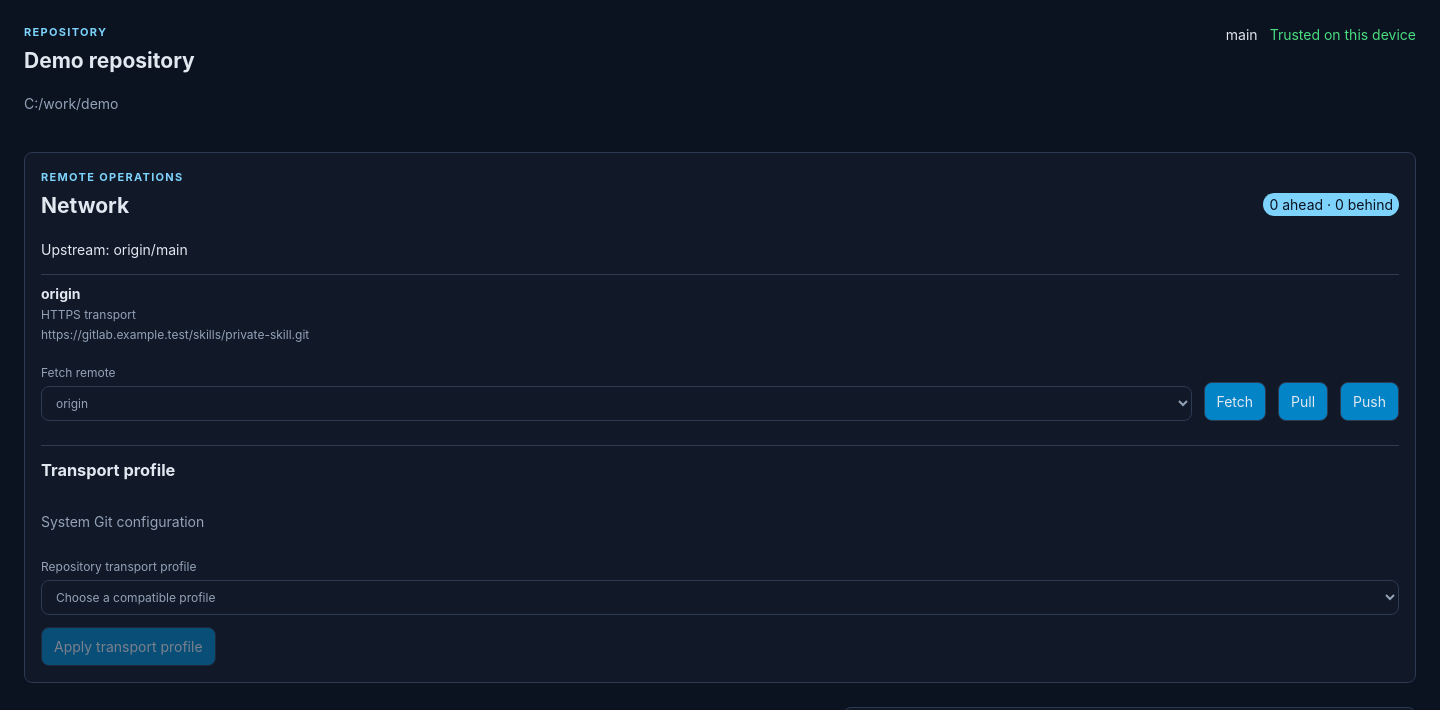
Test: RepositoryView › composes Network operations and refreshes repository status after terminal work
The image size is (1440, 710).
Click the button "Fetch": [1235, 401] box [1204,382,1266,421]
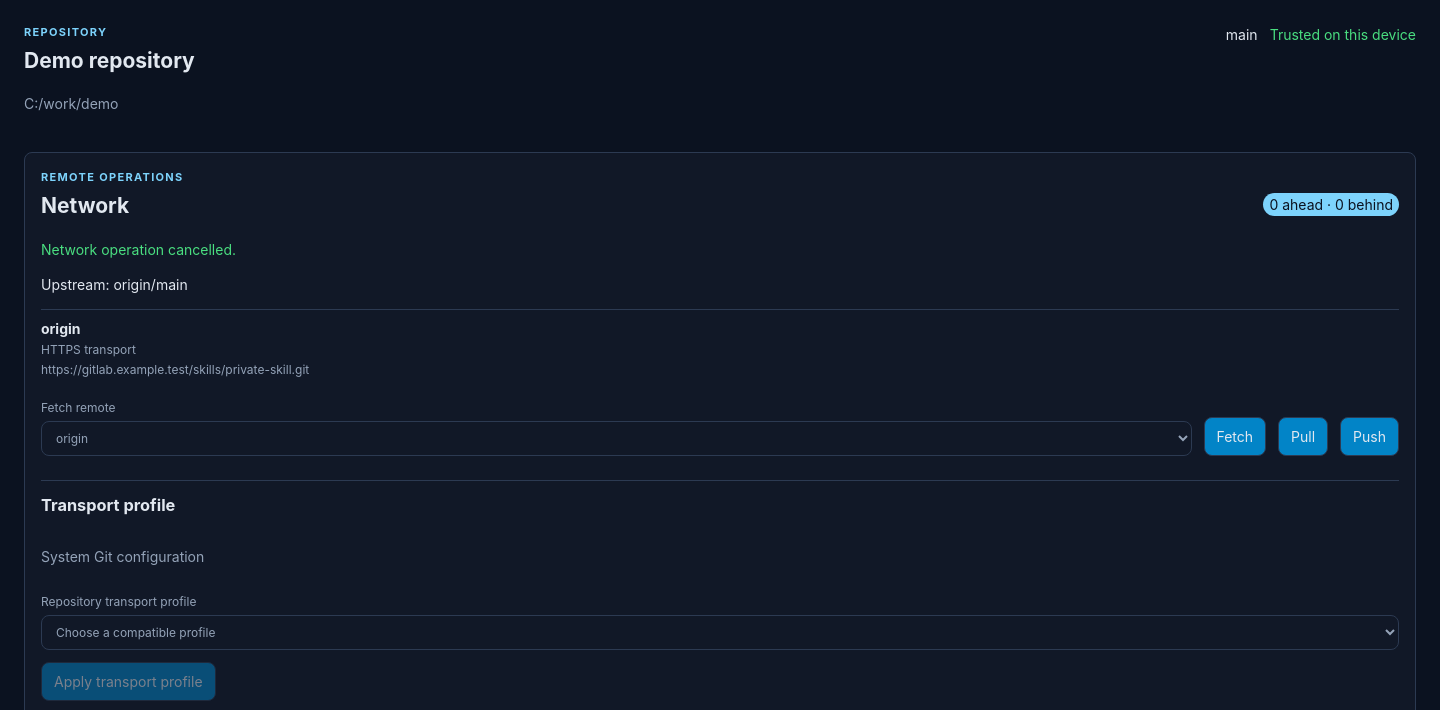
Result: the text "Network operation cancelled." is shown at [41,241,236,258]
